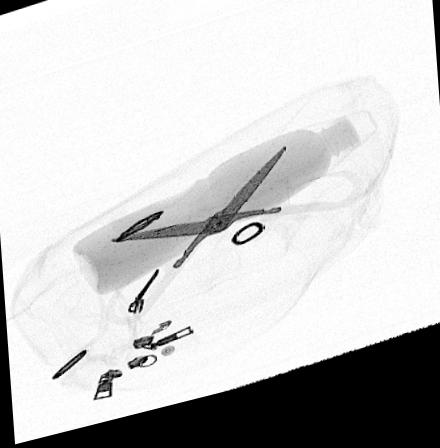Scissors: (106, 158, 365, 330)
